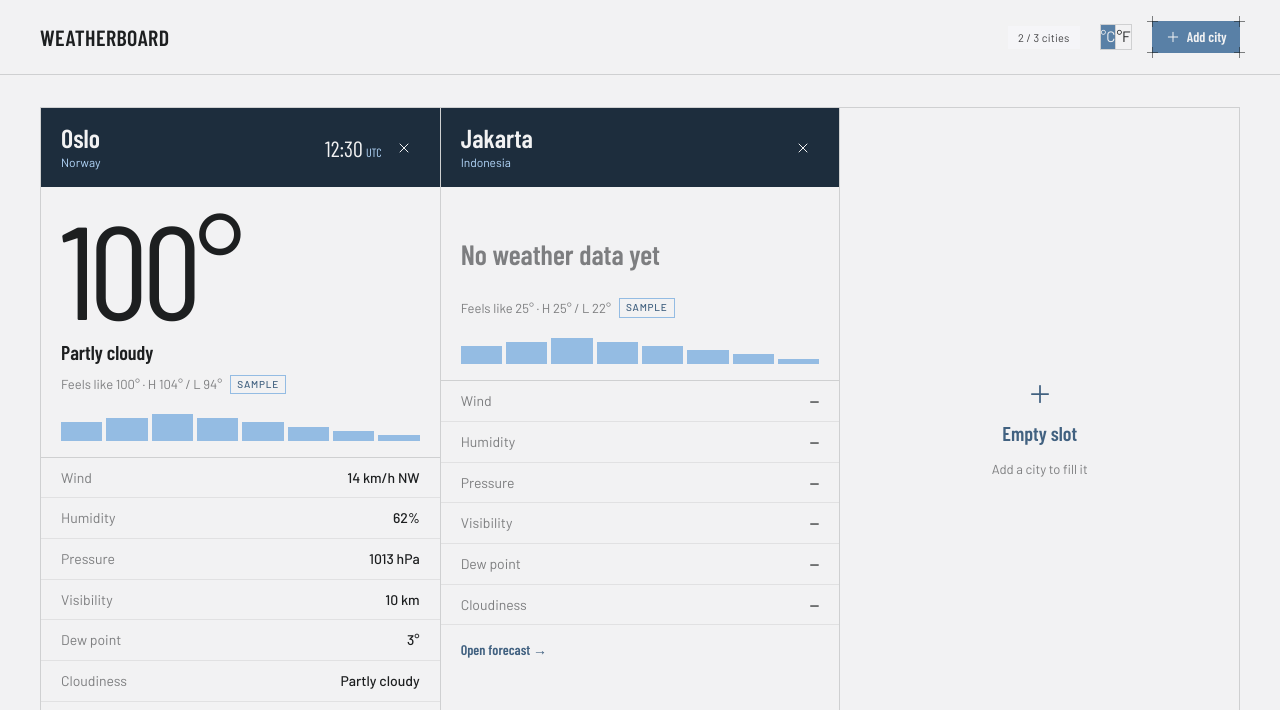
Scenario: App › puts a city back and says so when removing it fails
The image size is (1280, 710).
Click the button named "Remove Oslo".
click(404, 148)  # box [388,132,420,164]
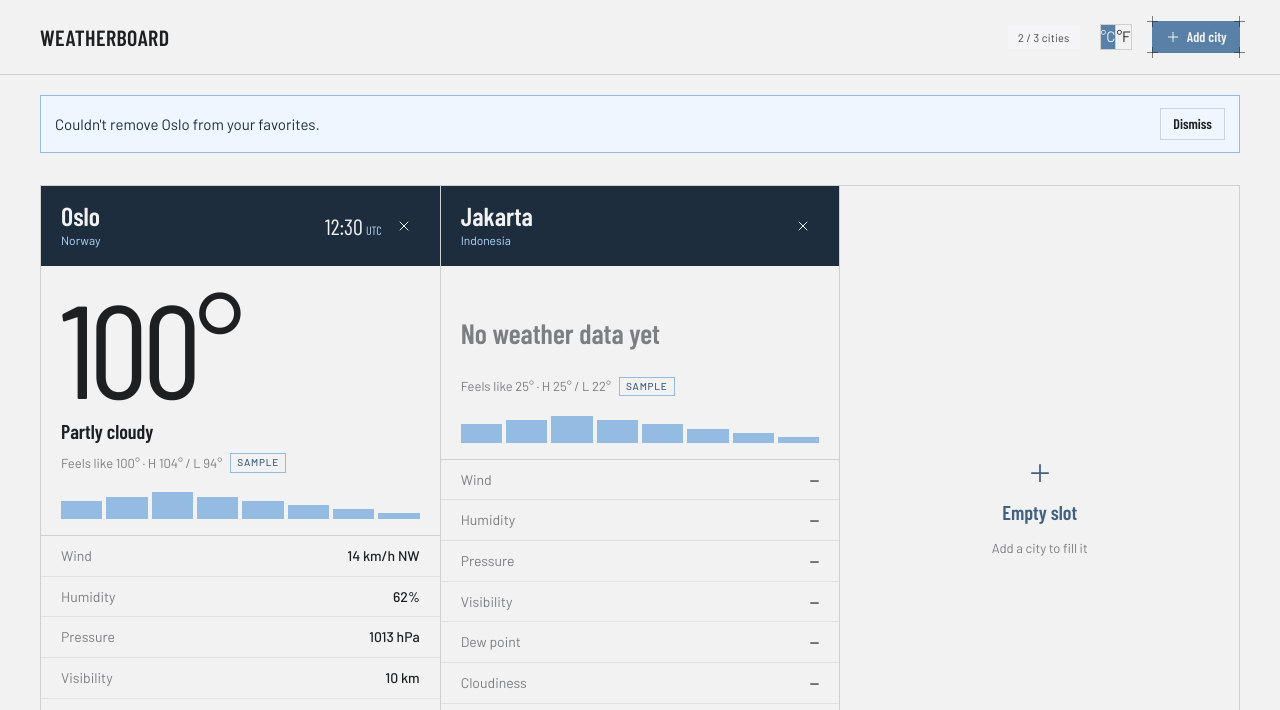
Expected: the button named "Remove Oslo" is shown, [388,210,420,242]
Result: the text "Couldn't remove Oslo from your favorites." is shown at [55,113,320,136]
Click the button "Dismiss".
click(1193, 124)  # box [1160,108,1225,140]
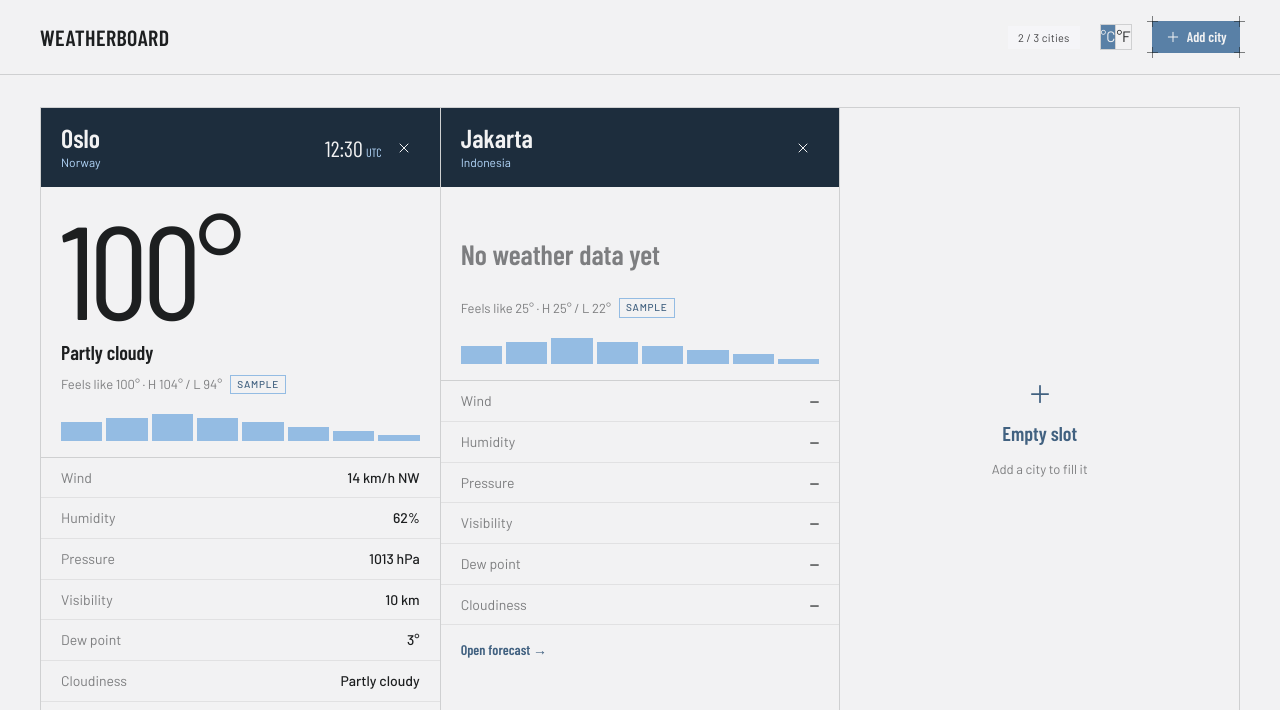
Result: the text "Couldn't remove Oslo from your favorites." is gone
